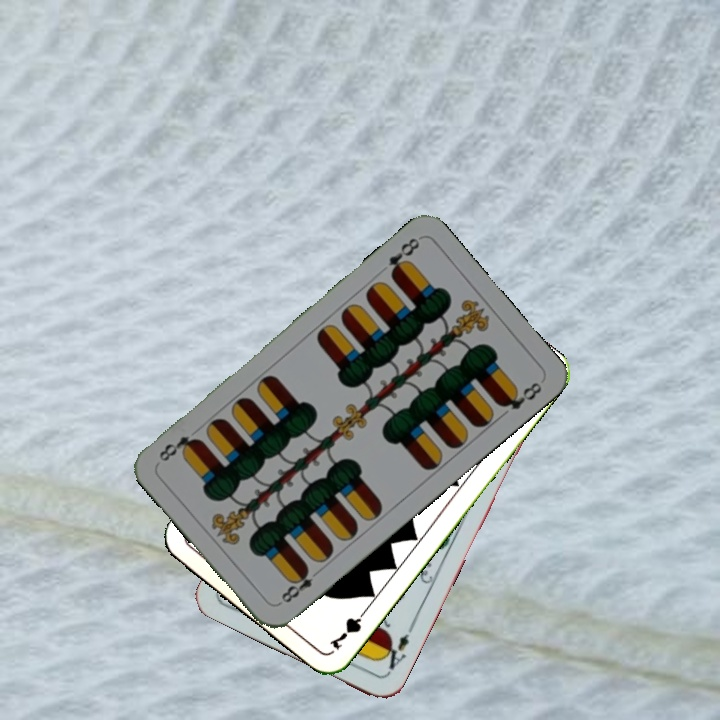E8: (274, 562, 324, 607), (385, 233, 423, 281)
EA: (377, 621, 417, 677)
G7: (325, 602, 372, 653)
